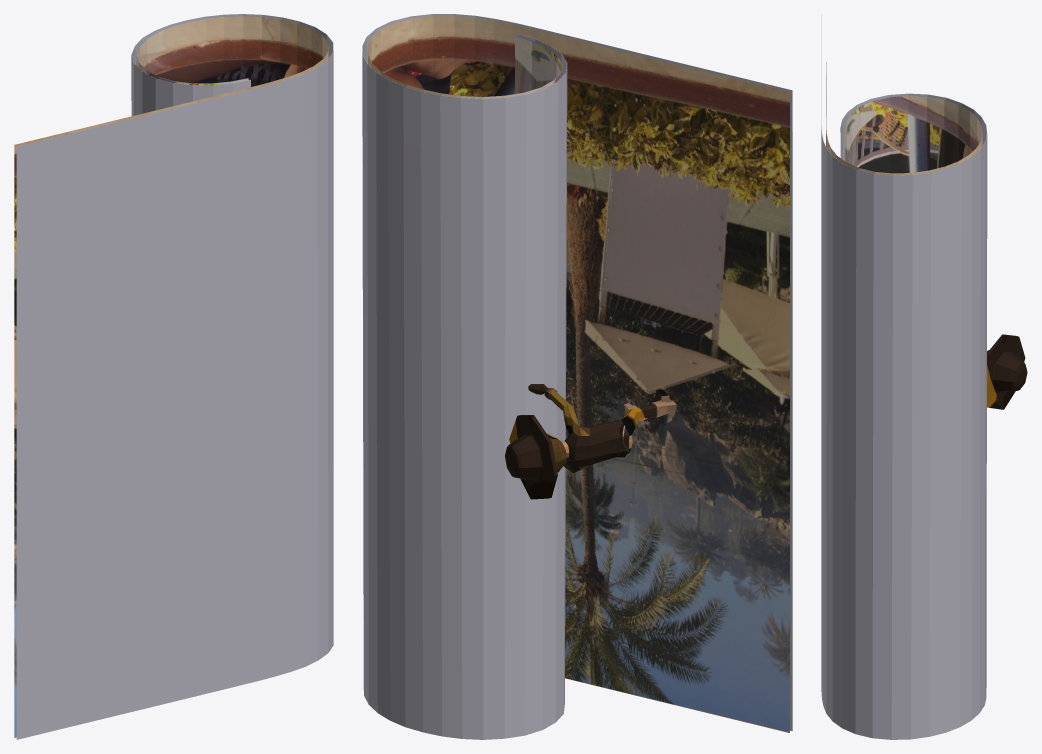
The model's file is start_file2_000039.obj.
3 renders of one model, left to right at view 1: azimuth 30°, elevation 25°; view 2: azimuth 150°, elevation 25°; view 3: azimuth 270°, elevation 25°, orthographic. The views are drawn at different scales.
Visible parts, largest first — view 1: Cube_Cube.001; view 2: Cube_Cube.001, Character_Cube; view 3: Cube_Cube.001, Character_Cube.
Boxes of the visible parts, box(x1,y1,x2,y2) form: Cube_Cube.001: box(14, 14, 333, 739); Cube_Cube.001: box(362, 14, 792, 739); Character_Cube: box(505, 384, 676, 499); Cube_Cube.001: box(821, 14, 987, 739); Character_Cube: box(987, 334, 1027, 409).
Bounding box in the file's own units: 0.935 × 1.52 × 0.5044.
2 materials, 2 textured.
